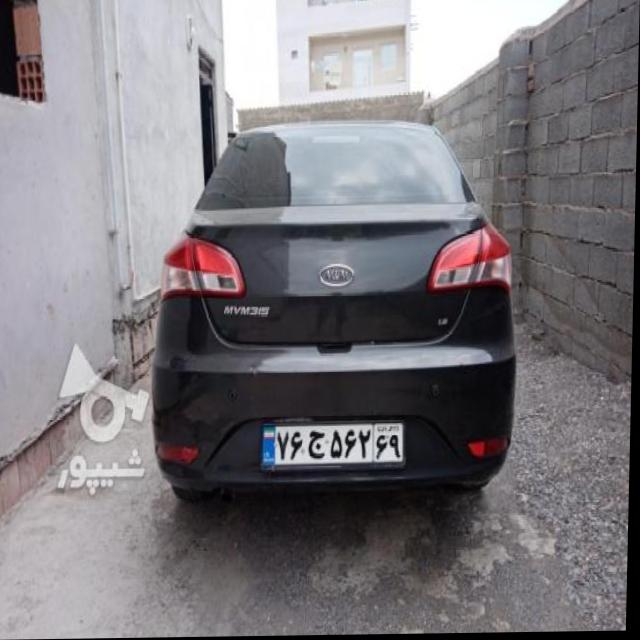licence: (261, 418, 408, 463)
